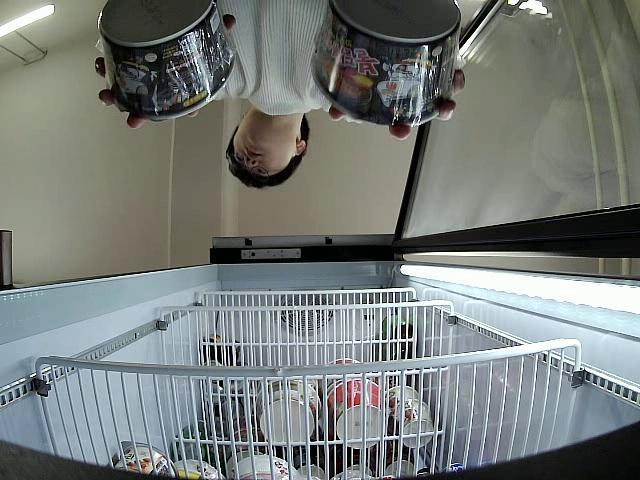07_buldak_L: (310, 0, 460, 119), (99, 0, 235, 121)
